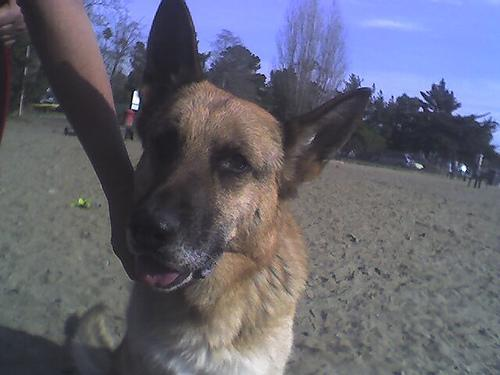German_shepherd: (69, 0, 377, 373)
